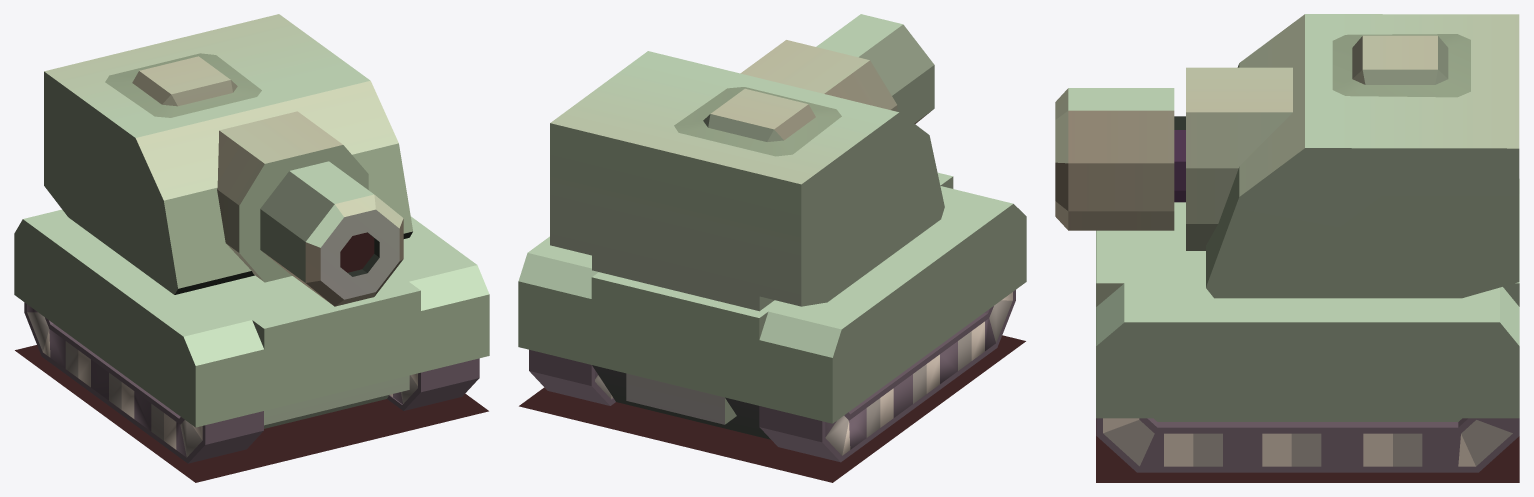
File: TankMesh.JadeSun.glb
The picture shows the model from 3 angles, left to right: view 1: azimuth 30°, elevation 25°; view 2: azimuth 150°, elevation 25°; view 3: azimuth 270°, elevation 25°; orthographic projection. The views are drawn at different scales.
Visible parts, largest first — view 1: TankMesh.JadeSun; view 2: TankMesh.JadeSun; view 3: TankMesh.JadeSun.
Boxes of the visible parts, x1,y1,x2,y2 form: TankMesh.JadeSun: [14, 14, 489, 482]; TankMesh.JadeSun: [518, 14, 1026, 482]; TankMesh.JadeSun: [1055, 14, 1519, 482].
Bounding box in the file's own units: 1.5 × 1.38 × 1.76.
1 material, 1 textured.
